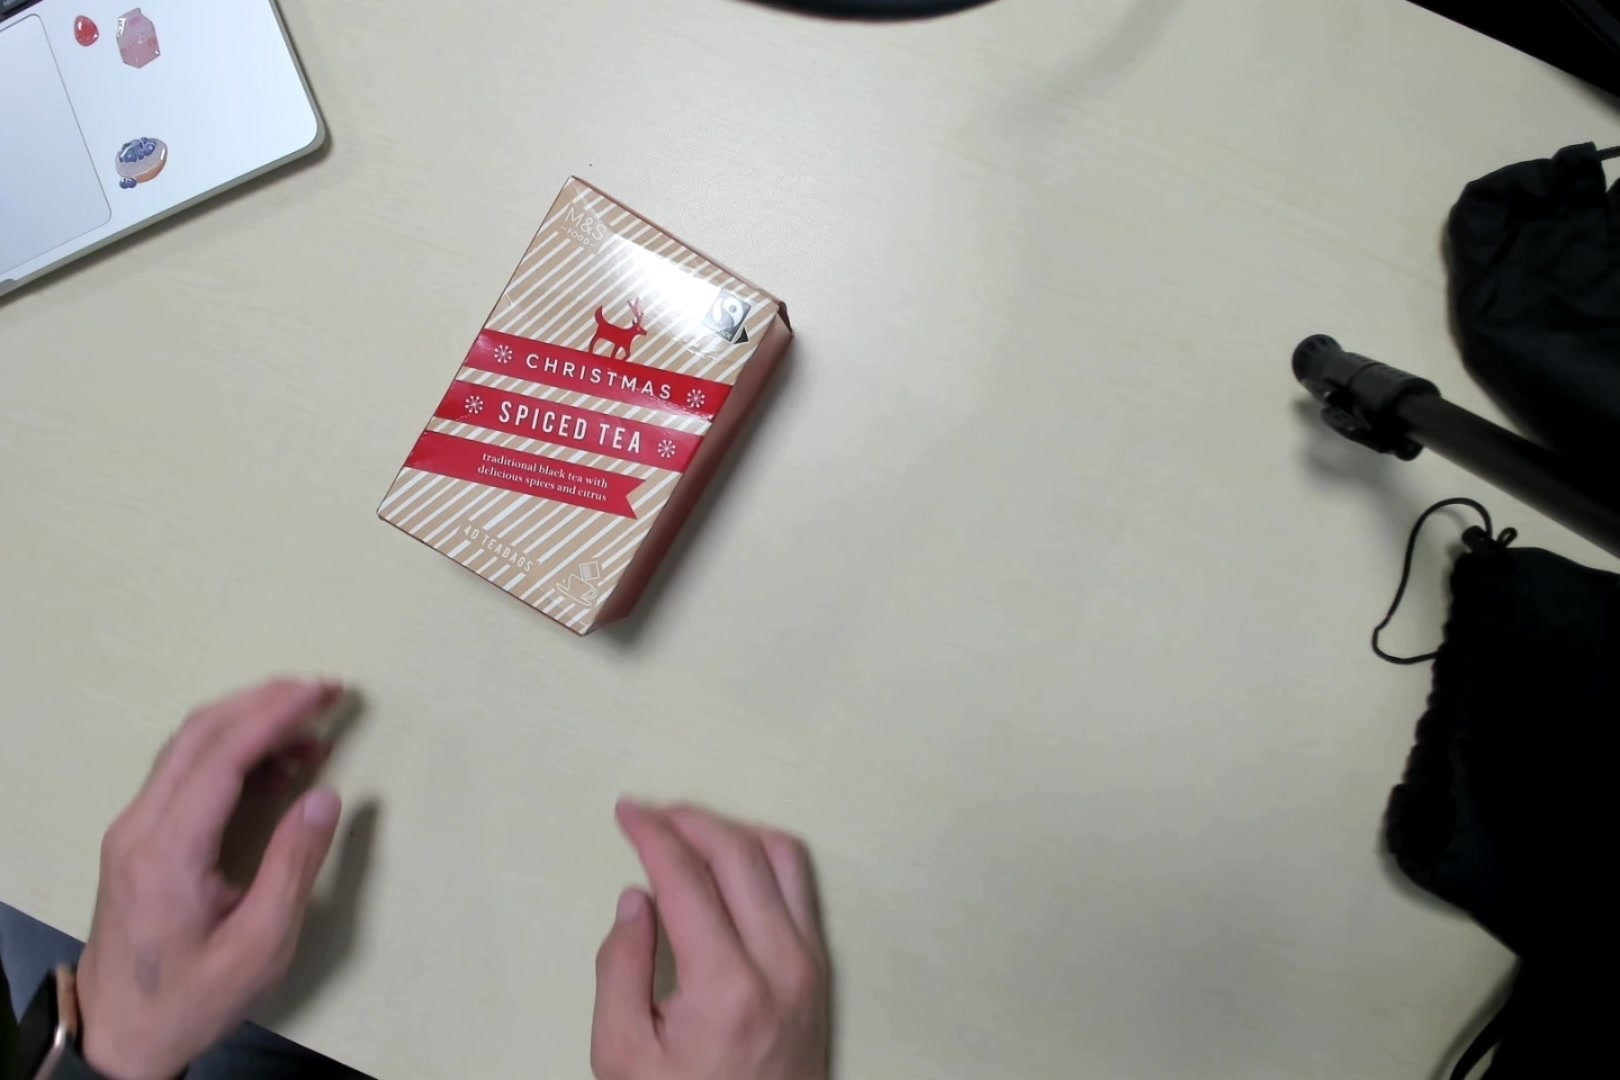Tea(PowderLeaves)_100-199g_Halal_NonHealthy: (372, 180, 796, 642)
